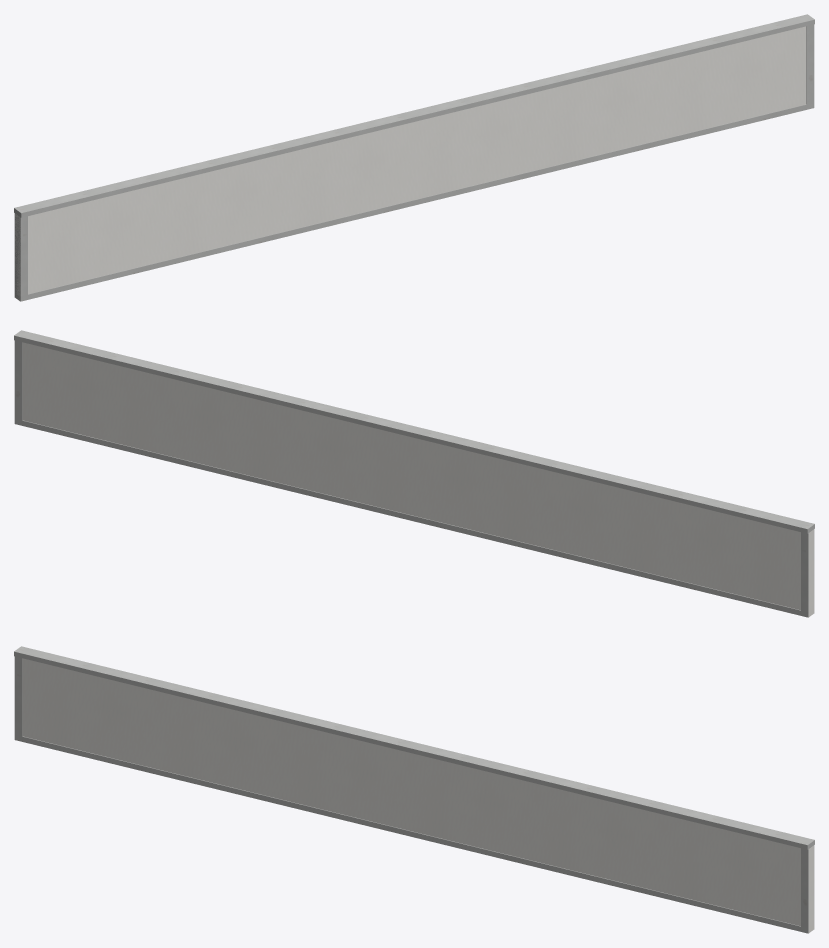
Rendered from barrier.gltf.
3 views of the same model, one above another, from view 1: azimuth 30°, elevation 25°; view 2: azimuth 150°, elevation 25°; view 3: azimuth 330°, elevation 25° (orthographic).
Parts seen in each view (by area): view 1: jx_barrier; view 2: jx_barrier; view 3: jx_barrier.
Boxes of the visible parts, x1,y1,x2,y2 form: jx_barrier: (14,14,814,301); jx_barrier: (14,330,814,617); jx_barrier: (14,646,814,933).
Bounding box in the file's own units: 12.6 × 1.35 × 0.2.
Materials: 2 (2 with a texture image).
